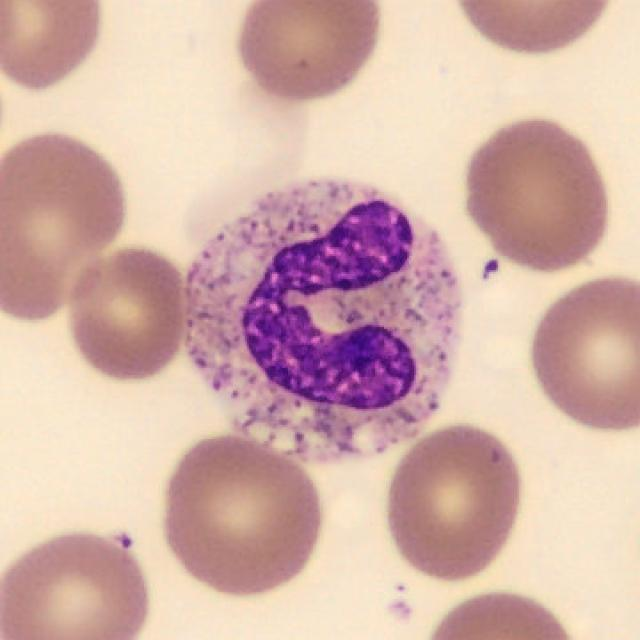Neutrofilo segmentado: (183, 178, 460, 466)
